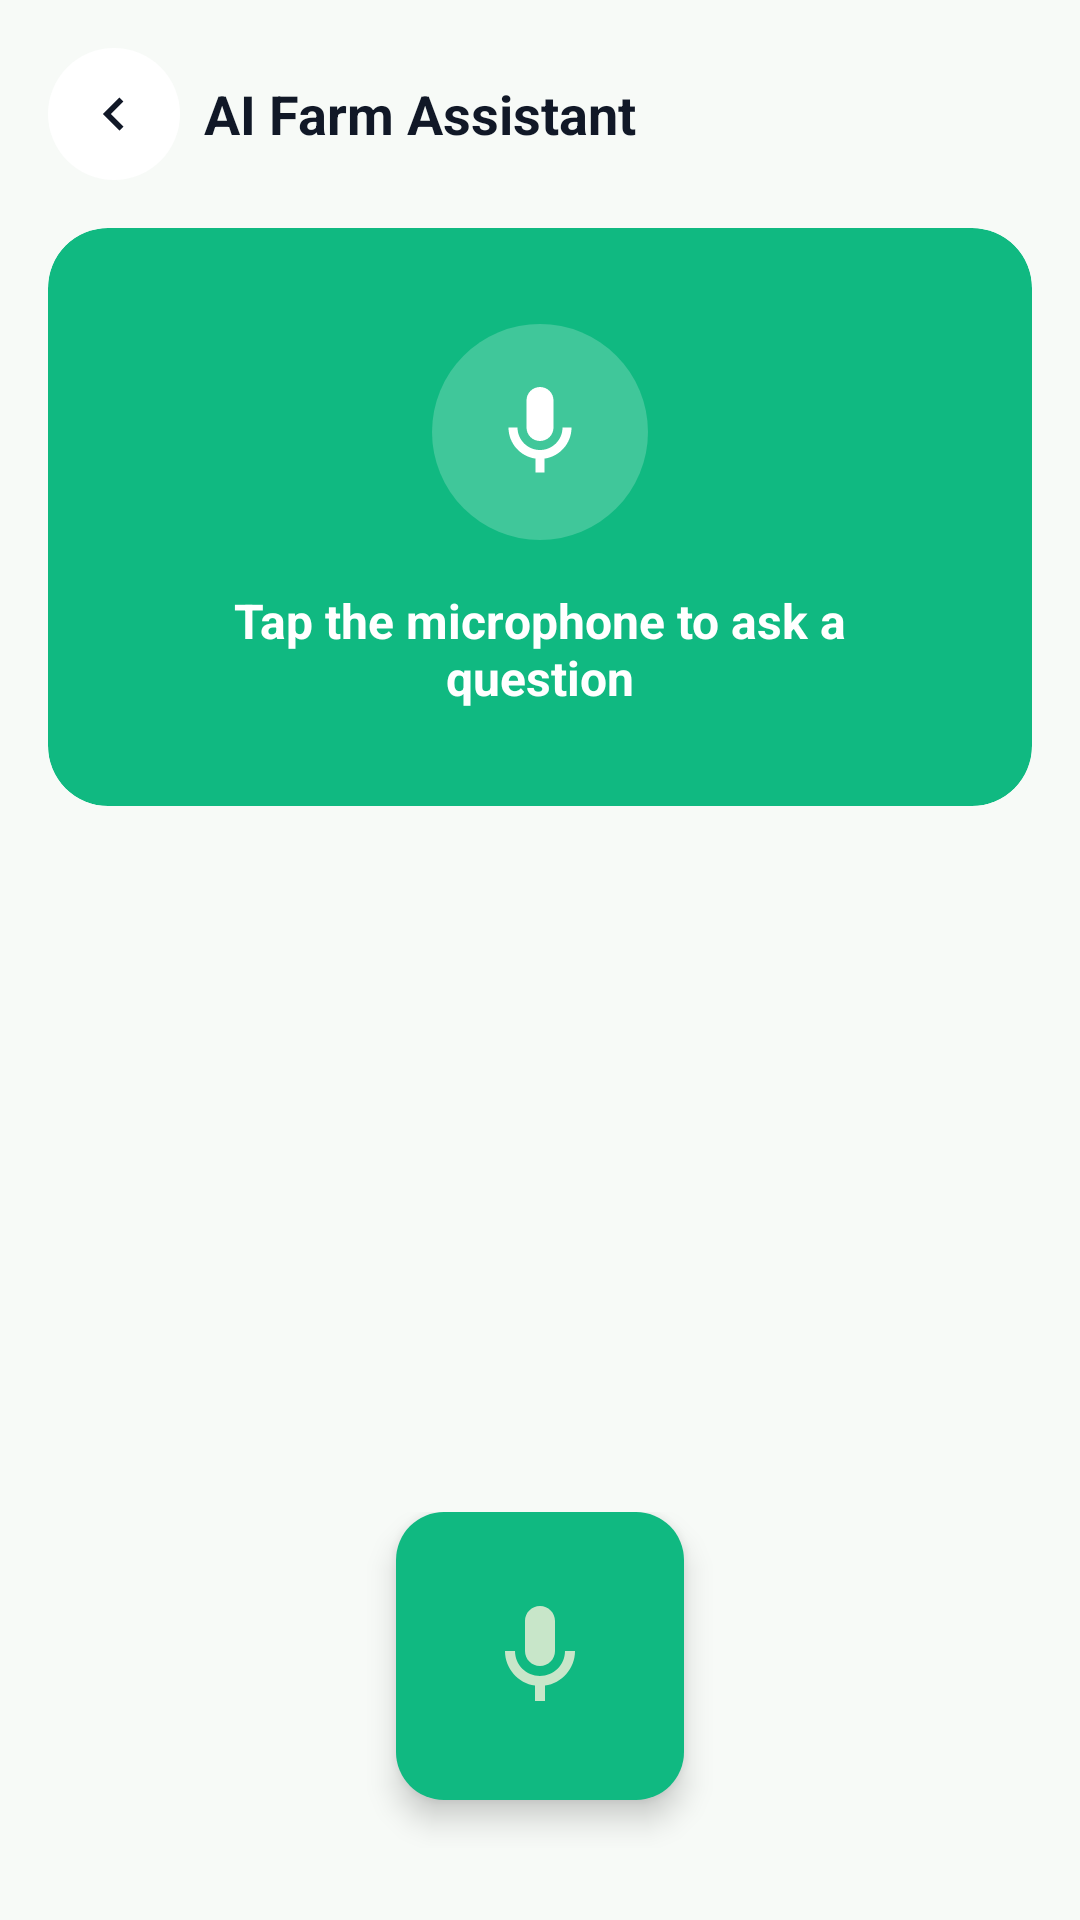

Icons on this 1080*1920 Android screen, each with its box as (x1, y1, x2, y2):
mic: (432, 324, 648, 540)
Tap to speak: (396, 1512, 684, 1800)
